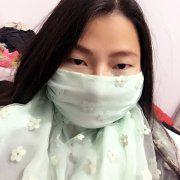OK: (51, 32, 145, 131)
